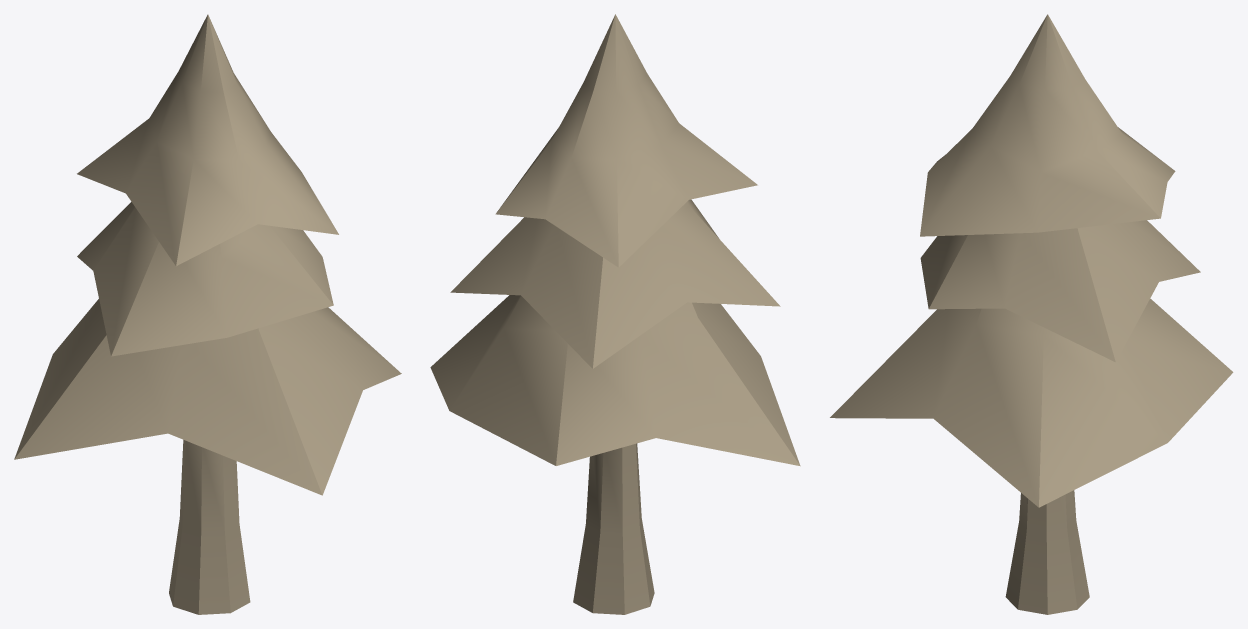
File: Tree3.fbx
3 renders of one model, left to right at view 1: azimuth 30°, elevation 25°; view 2: azimuth 150°, elevation 25°; view 3: azimuth 270°, elevation 25°, orthographic.
Visible parts, largest first — view 1: Tree3; view 2: Tree3; view 3: Tree3.
Part boxes in pixels (x1,y1,x2,y2): Tree3: (14,14,401,614); Tree3: (430,14,800,614); Tree3: (830,14,1233,614).
Size of the model in its own units: 315 by 463 by 291.
